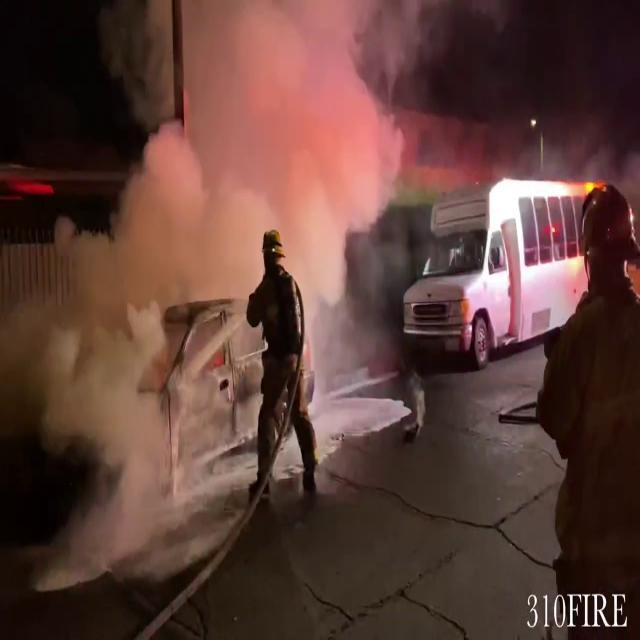Smoke: (65, 0, 449, 500)
